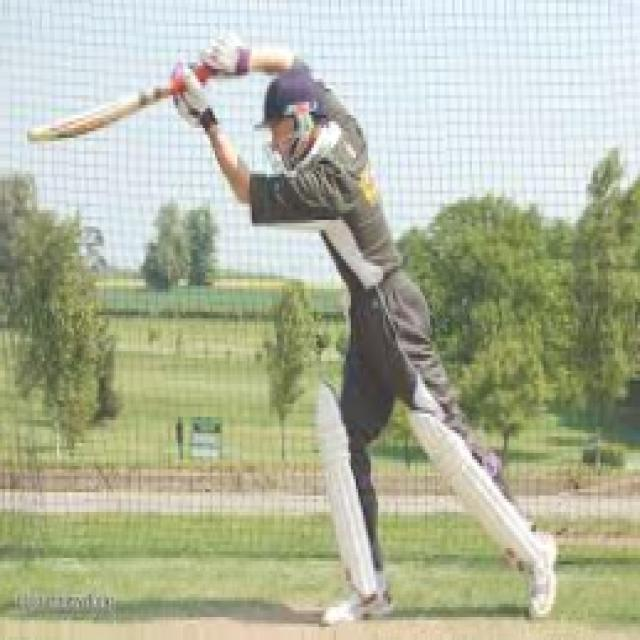toe: (26, 119, 84, 147)
